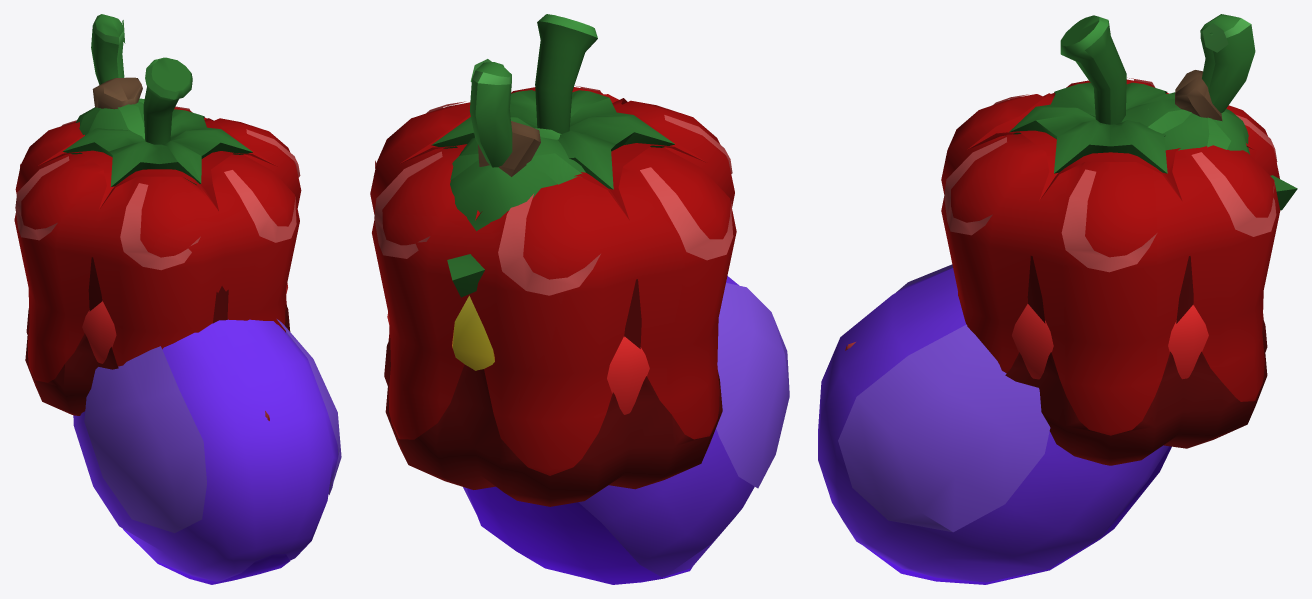
The model's file is FruitsVegetables.fbx.
The picture shows the model from 3 angles, left to right: view 1: azimuth 30°, elevation 25°; view 2: azimuth 150°, elevation 25°; view 3: azimuth 270°, elevation 25°; orthographic projection. The views are drawn at different scales.
Visible parts, largest first — view 1: Pepper, Eggplant, Tomato, Banana; view 2: Pepper, Eggplant, Banana, Tomato; view 3: Pepper, Eggplant, Tomato, Banana.
Part boxes in pixels (x1=…): Pepper: x1=14, y1=57, x2=301, y2=415; Eggplant: x1=73, y1=14, x2=341, y2=584; Tomato: x1=82, y1=283, x2=287, y2=363; Banana: x1=92, y1=77, x2=142, y2=109; Pepper: x1=370, y1=14, x2=736, y2=506; Eggplant: x1=447, y1=59, x2=789, y2=584; Banana: x1=452, y1=121, x2=540, y2=370; Tomato: x1=387, y1=312, x2=649, y2=414; Pepper: x1=941, y1=15, x2=1280, y2=465; Eggplant: x1=818, y1=14, x2=1297, y2=584; Tomato: x1=1012, y1=304, x2=1208, y2=379; Banana: x1=1175, y1=70, x2=1222, y2=121.
Bounding box in the file's own units: 3.03 × 4.99 × 3.94.
